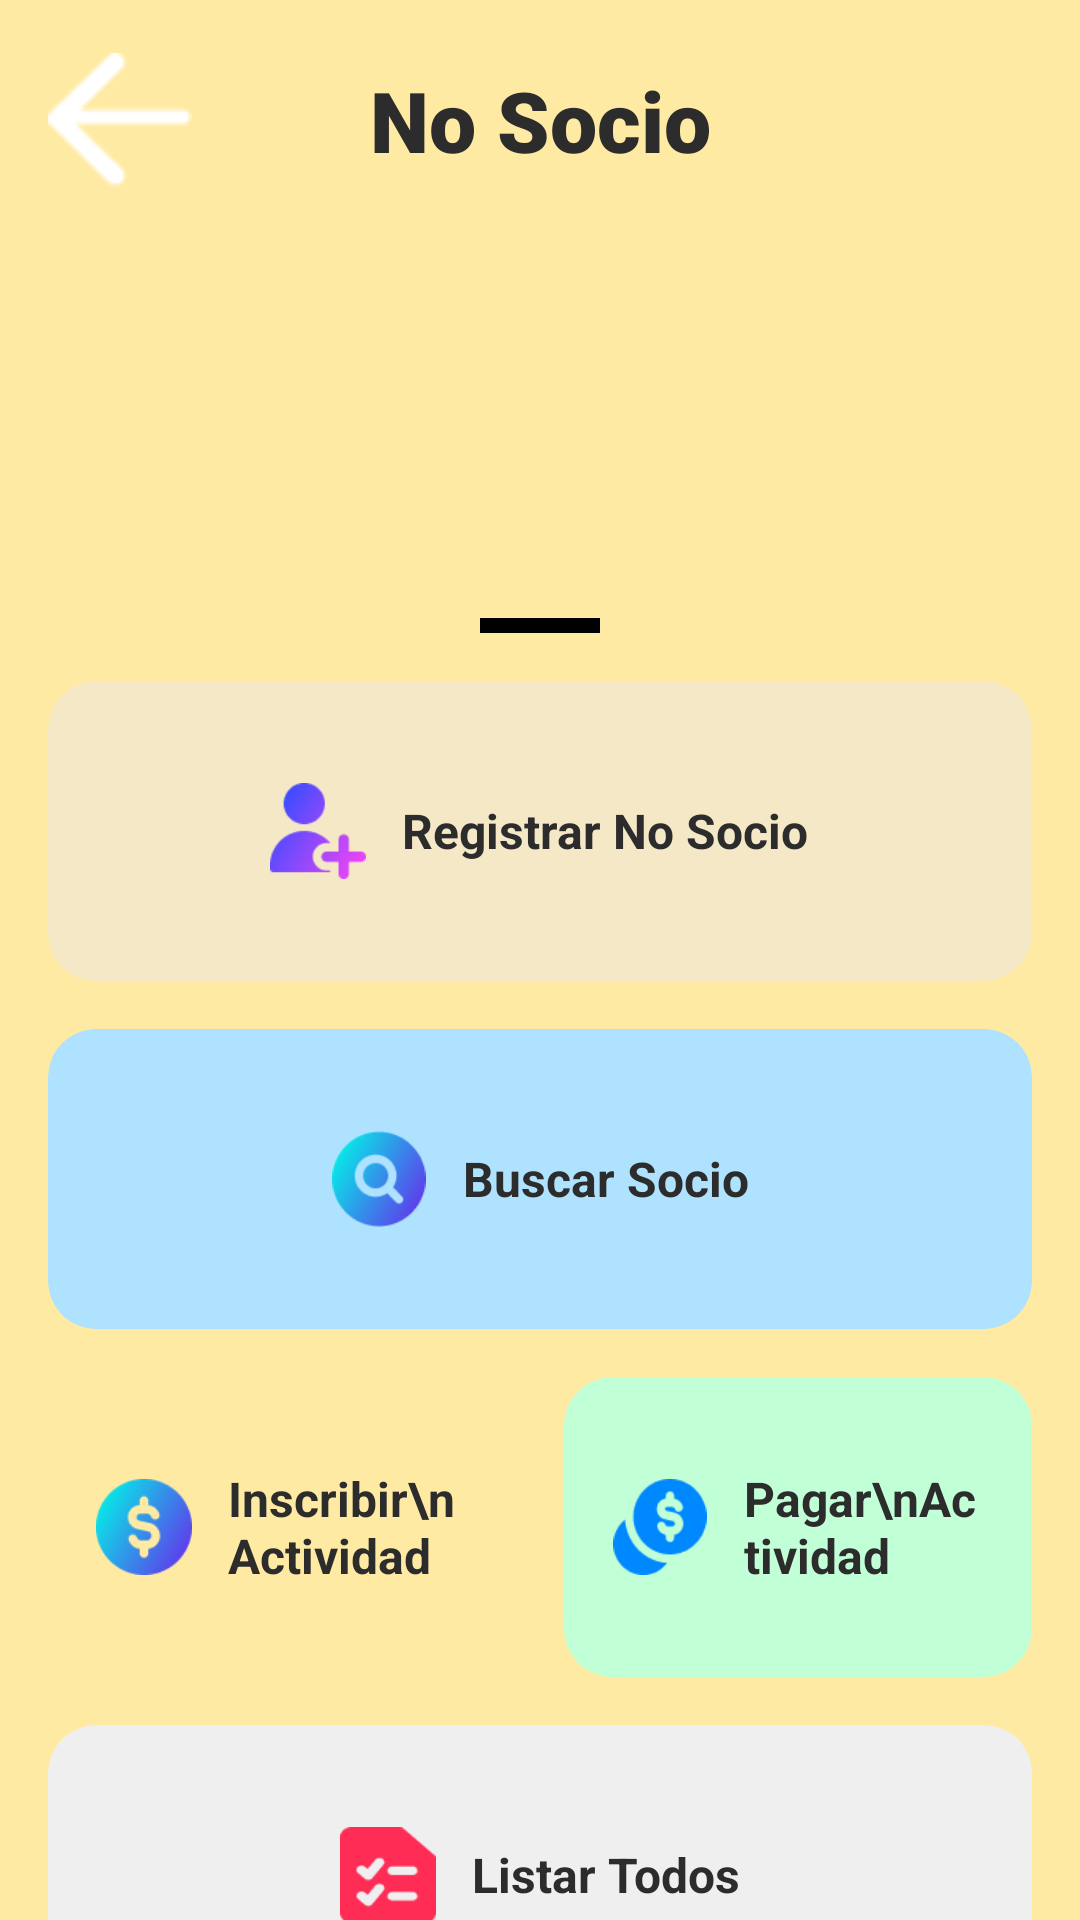

Named icons in this screenshot (1080px x 1920px) and their bounding boxes, Rect(x1, y1, x2, y2):
atras: Rect(48, 53, 192, 185)
